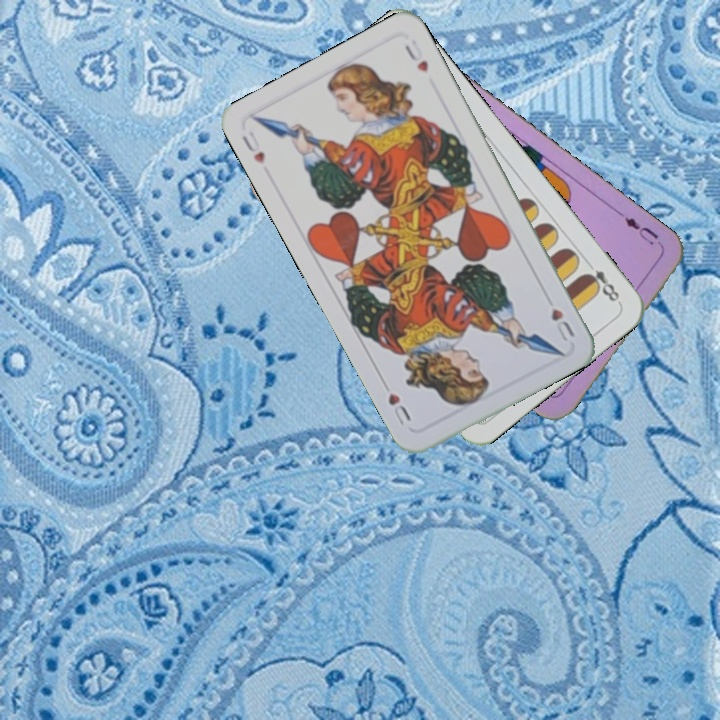E8: (580, 256, 623, 306)
EU: (620, 212, 662, 248)
HU: (547, 304, 577, 344), (238, 127, 268, 166)
